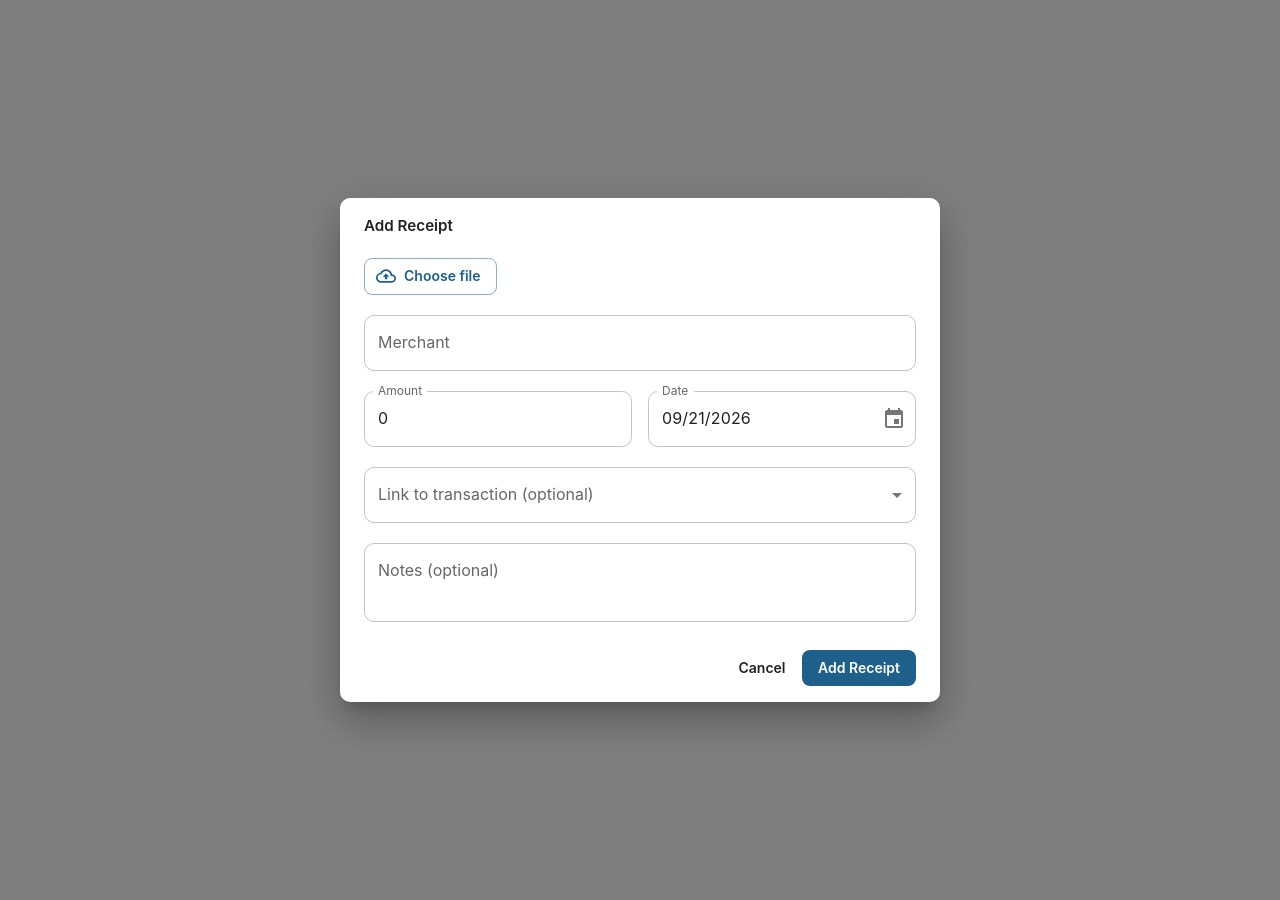
Test: ReceiptFormDialog › requires a file to be chosen before submitting in create mode
Type "Corner Store" into the field labelled "Merchant" at point(640, 343), box [364,315,916,371]
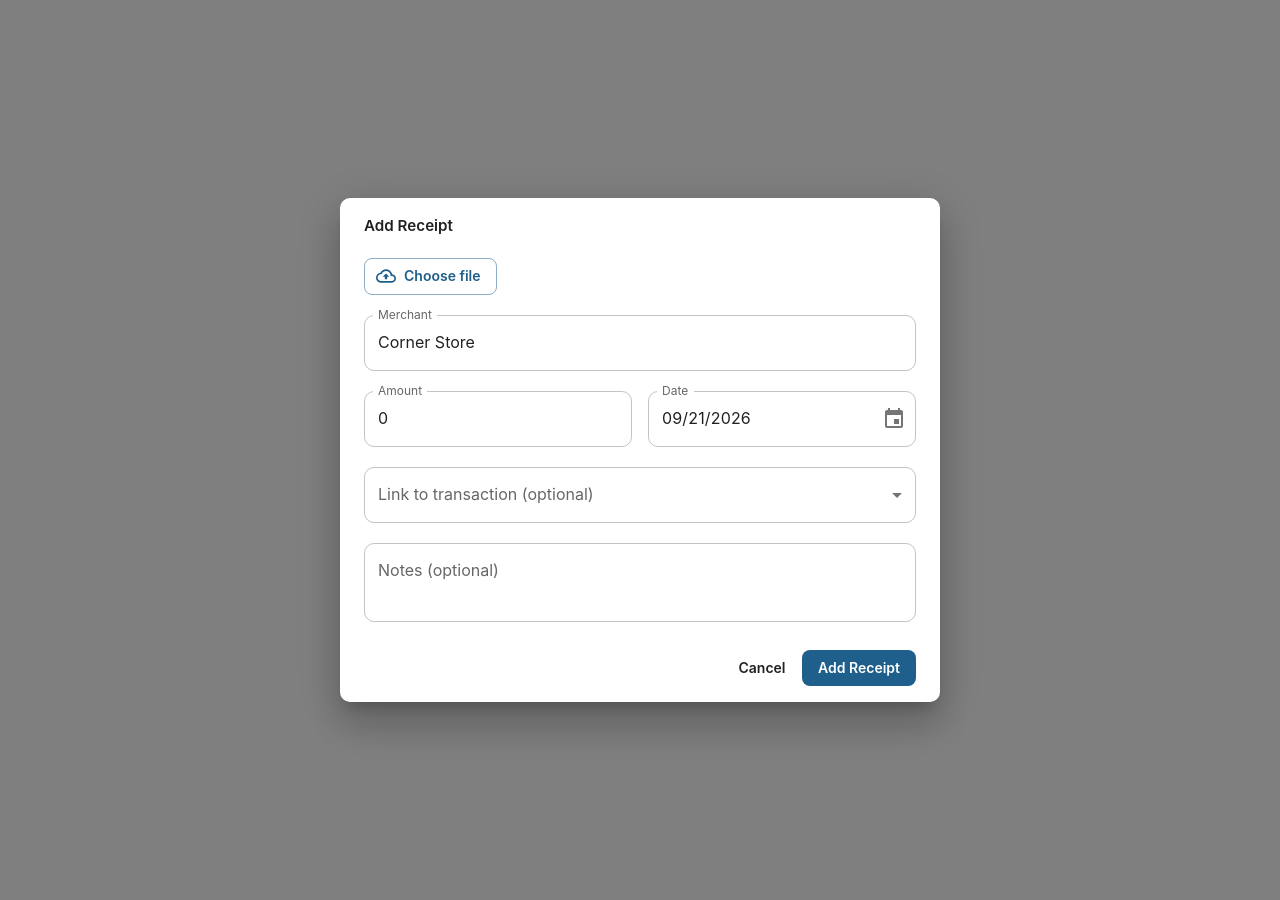
Replace the text in the number field labelled "Amount" with "450" at point(498, 419), box [364,391,632,447]
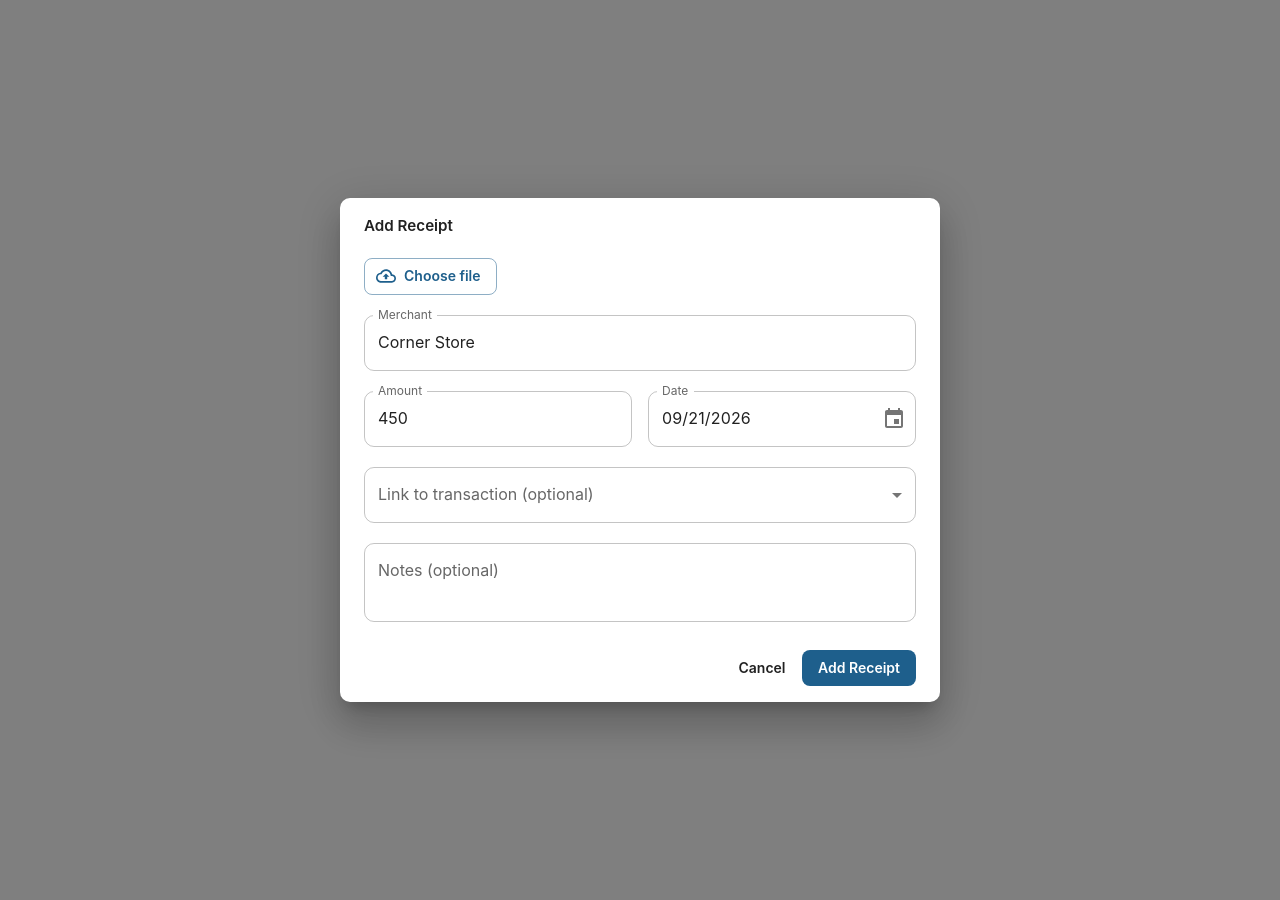
Click the button "Add Receipt" at point(859, 668), box [802,650,916,686]
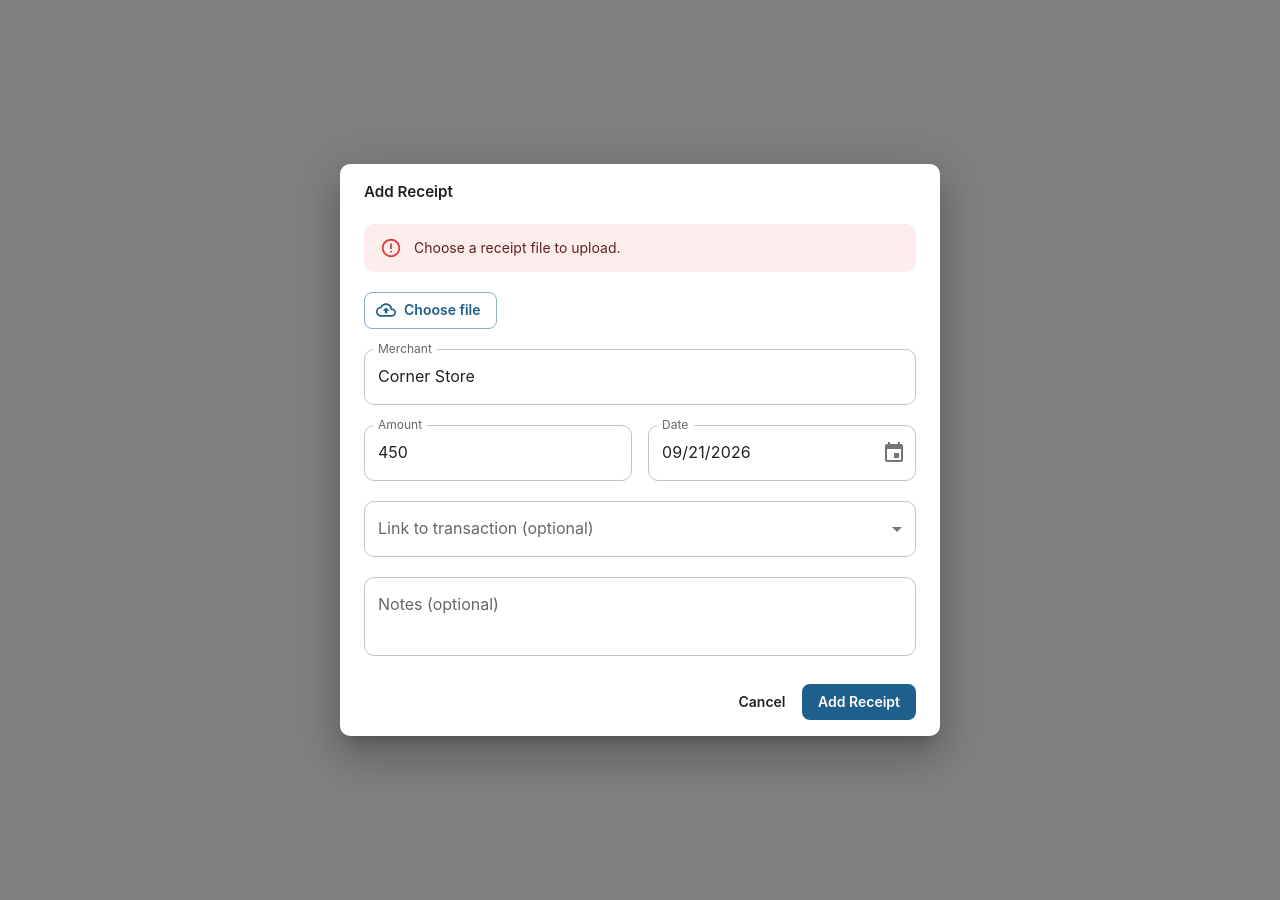
Check: the text "Choose a receipt file to upload." is shown, box [414,239,620,256]
